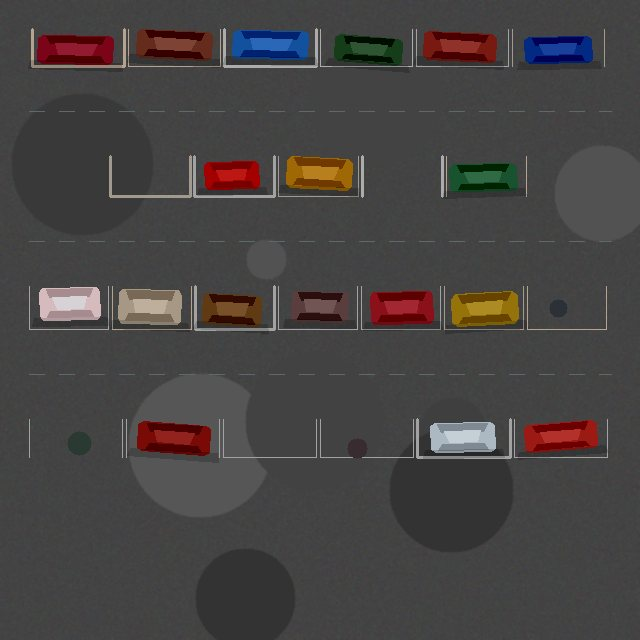space-empty: (29, 419, 122, 457), (223, 419, 316, 457), (320, 419, 413, 457), (527, 286, 606, 329), (110, 156, 190, 196), (362, 156, 442, 196)
space-occupied: (126, 419, 219, 457), (417, 419, 510, 457), (514, 419, 607, 457), (32, 29, 124, 66), (128, 29, 220, 66), (224, 29, 316, 66), (320, 29, 412, 66), (416, 29, 508, 66), (512, 29, 604, 66), (29, 286, 108, 329), (112, 286, 191, 329), (195, 286, 274, 329), (278, 286, 357, 329), (361, 286, 440, 329), (444, 286, 523, 329), (194, 156, 274, 196), (278, 156, 358, 196), (446, 156, 526, 196)
